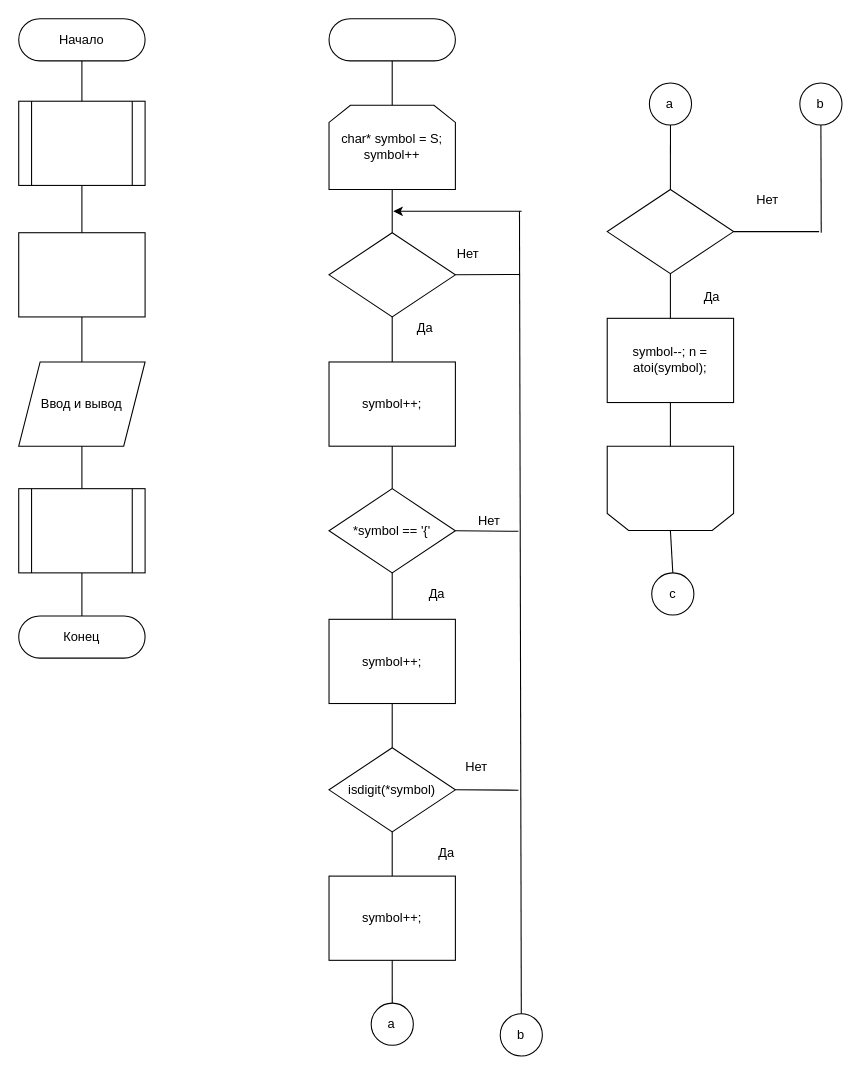
Image size: 861x1075. Some labels were removed from this diagram. Each missing label, with the centre of its shape:
*symbol: pixel 670 488
*symbol == 'c': pixel 391 274
*symbol == '}': pixel 670 231
char STroka(1-5): pixel 81 274
DecompressStr: pixel 81 530
DecompressStr(char* S): pixel 391 39
int main(): pixel 81 142
